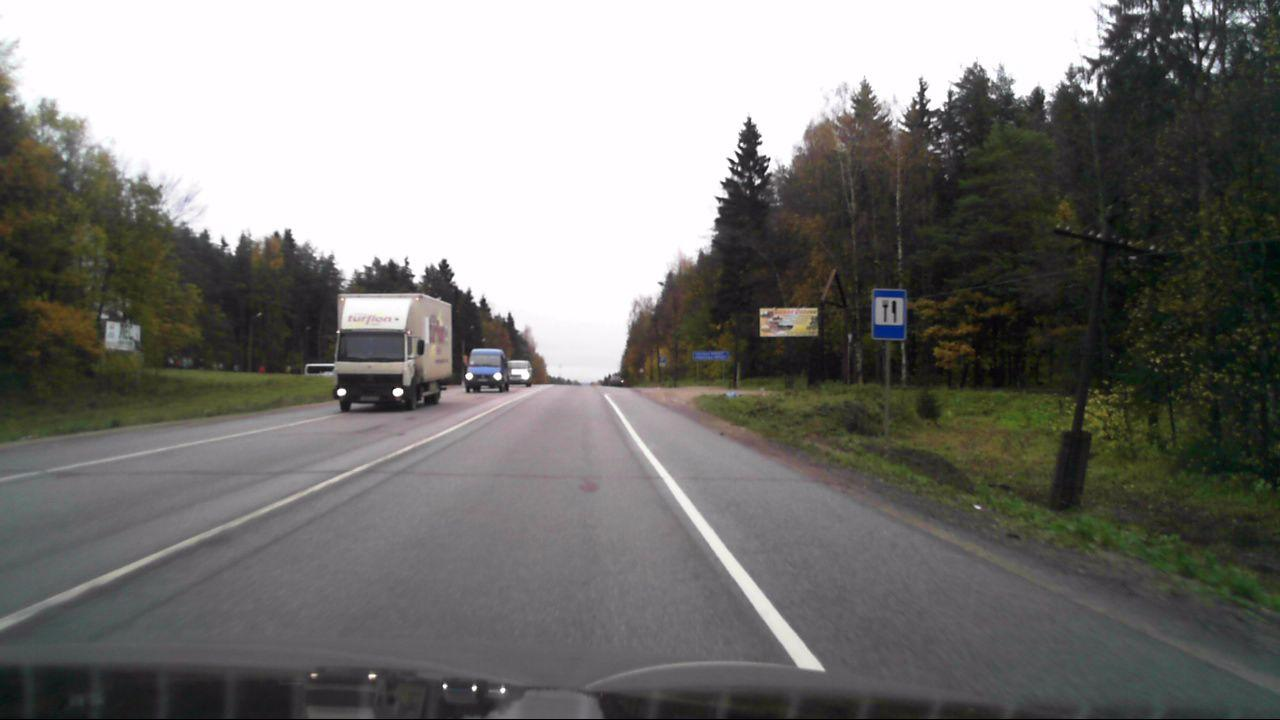7_7: (871, 289, 905, 339)
